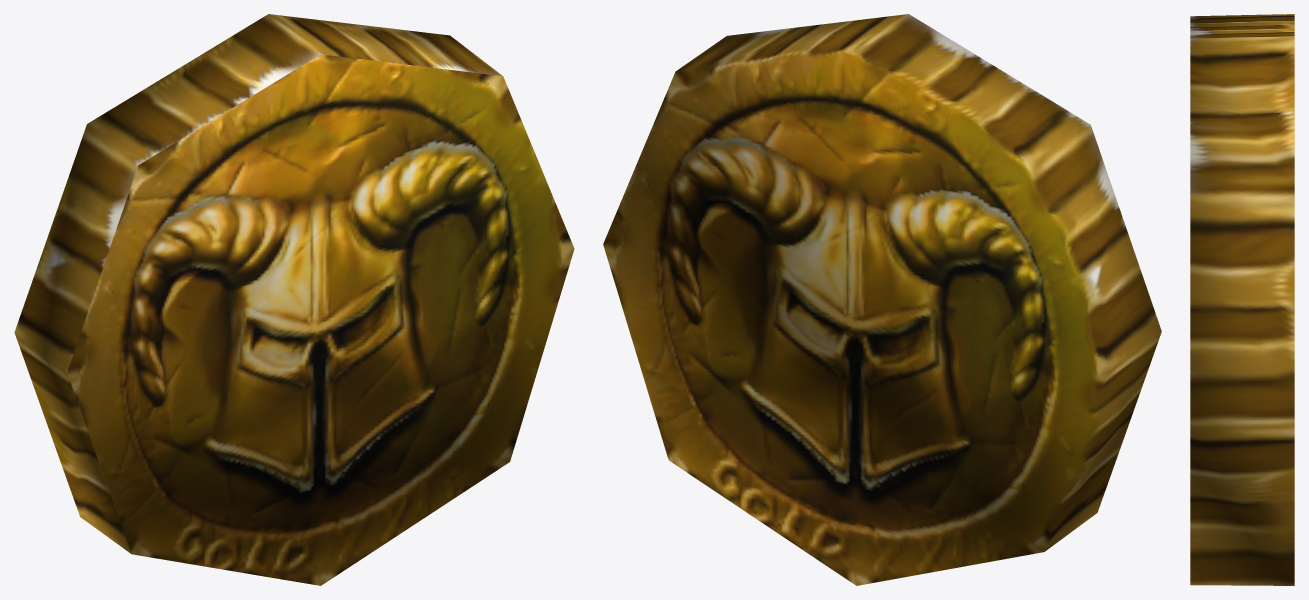
File: Coin.obj
The picture shows the model from 3 angles, left to right: view 1: azimuth 30°, elevation 25°; view 2: azimuth 150°, elevation 25°; view 3: azimuth 270°, elevation 25°; orthographic projection.
Parts seen in each view (by area): view 1: default; view 2: default; view 3: default.
Part boxes in pixels (left/top/right/bottom): default: left=14, top=14, right=574, bottom=585; default: left=603, top=14, right=1161, bottom=585; default: left=1190, top=14, right=1294, bottom=585.
Bounding box in the file's own units: 9.96 × 10.05 × 1.77.
Materials: 1 (1 with a texture image).
